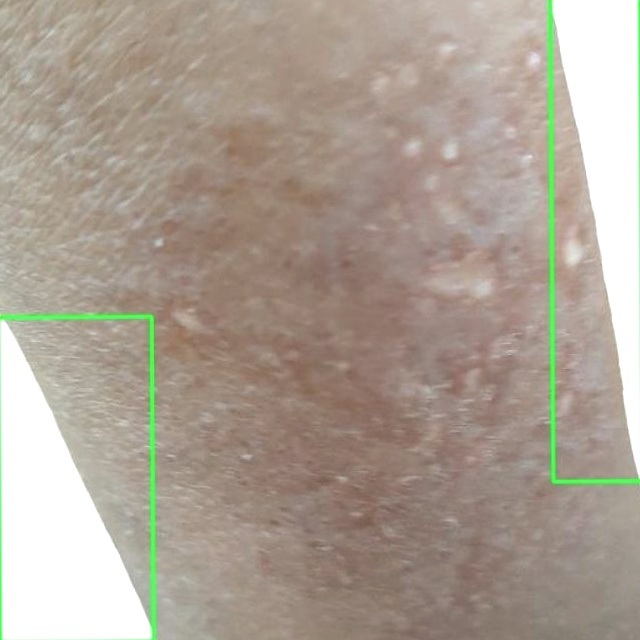Atopic Dermatitis: (0, 316, 154, 639), (550, 0, 639, 481)
